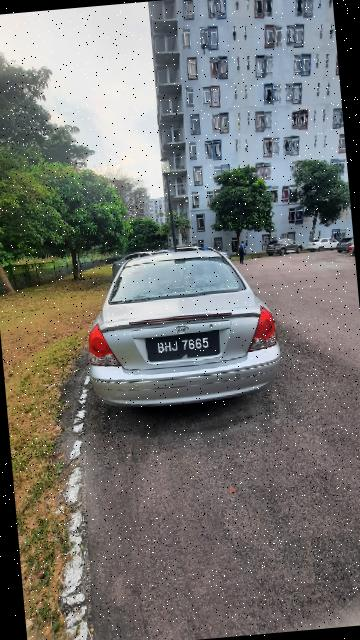License_Plate: (144, 327, 226, 367)
car: (74, 241, 287, 418)
